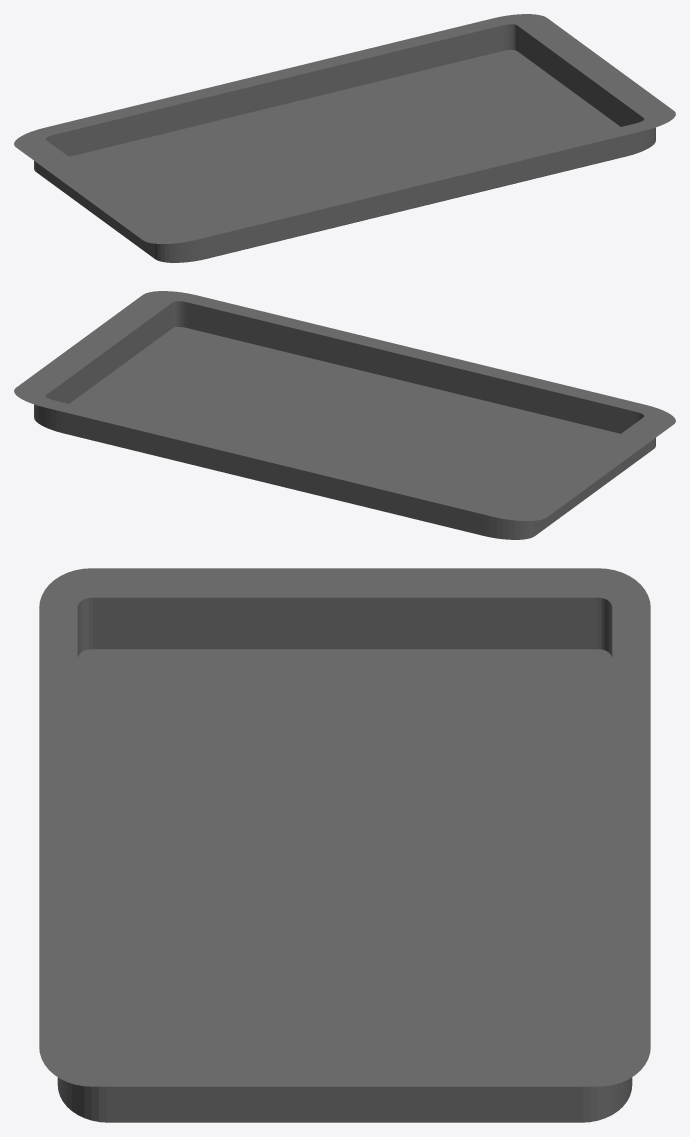
Rendered from metaltrial2.fbx.
3 views of the same model, one above another, from view 1: azimuth 30°, elevation 25°; view 2: azimuth 150°, elevation 25°; view 3: azimuth 270°, elevation 25° (orthographic). The views are drawn at different scales.
Visible parts, largest first — view 1: Куб.034; view 2: Куб.034; view 3: Куб.034.
Boxes of the visible parts, <box> form: Куб.034: <box>14,14,675,262</box>; Куб.034: <box>14,291,675,539</box>; Куб.034: <box>39,568,650,1122</box>.
Size of the model in its own units: 187 by 9.6 by 93.5.
